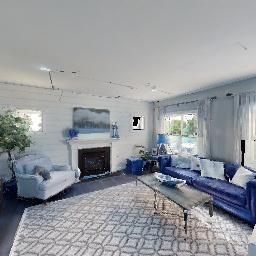sofa: (156, 144, 256, 228), (9, 151, 90, 212)
table: (123, 163, 225, 239)
